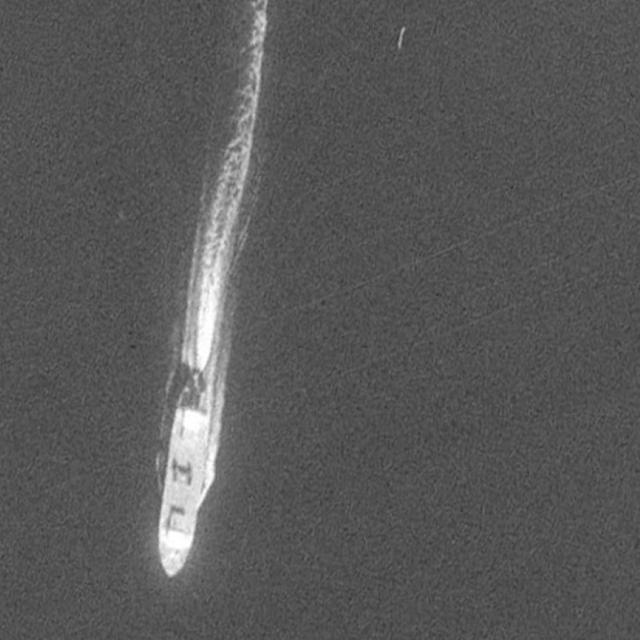RoRo: (151, 366, 217, 582)
